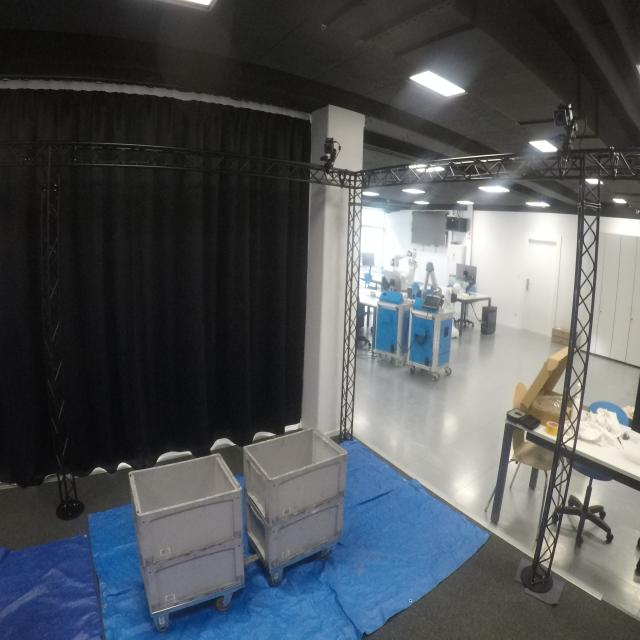Box4G: (124, 449, 245, 569), (241, 423, 350, 526), (243, 485, 348, 574), (138, 534, 245, 617)
